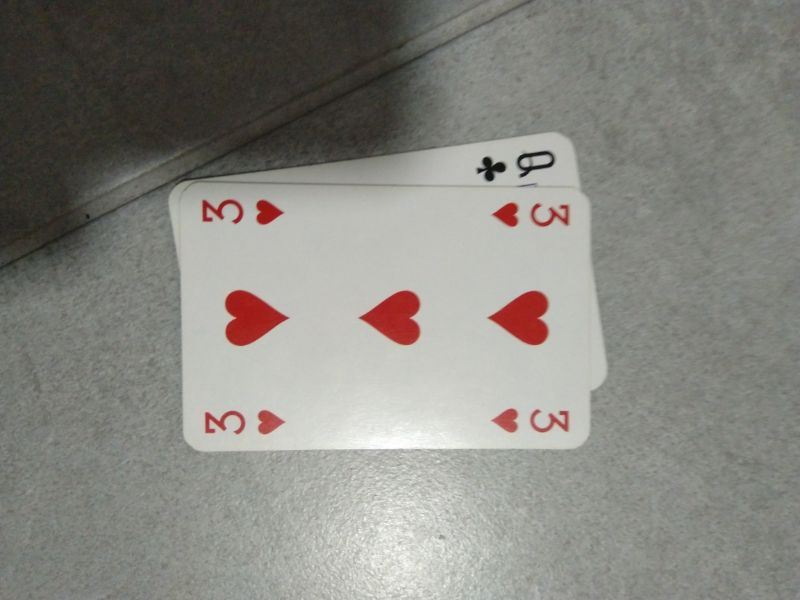3h: (488, 195, 575, 233), (197, 193, 289, 228), (487, 404, 572, 437), (198, 406, 287, 436)
Qc: (473, 143, 559, 187)
